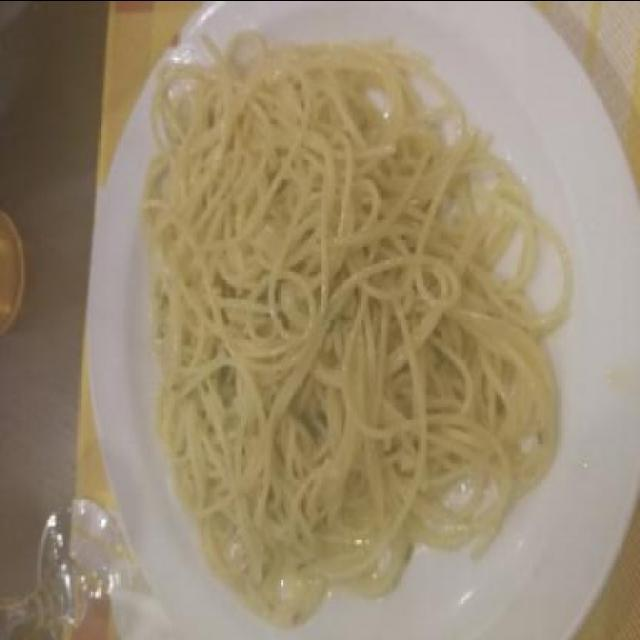Oil pasta: (125, 38, 573, 600)
